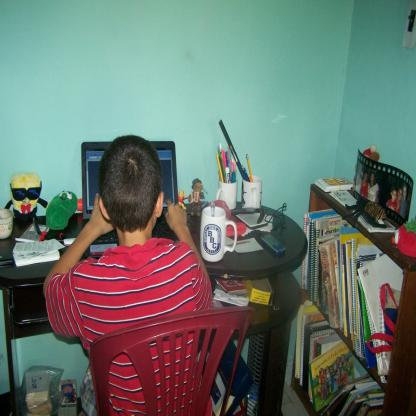book: (304, 206, 400, 381), (295, 297, 385, 416), (308, 341, 353, 410)
